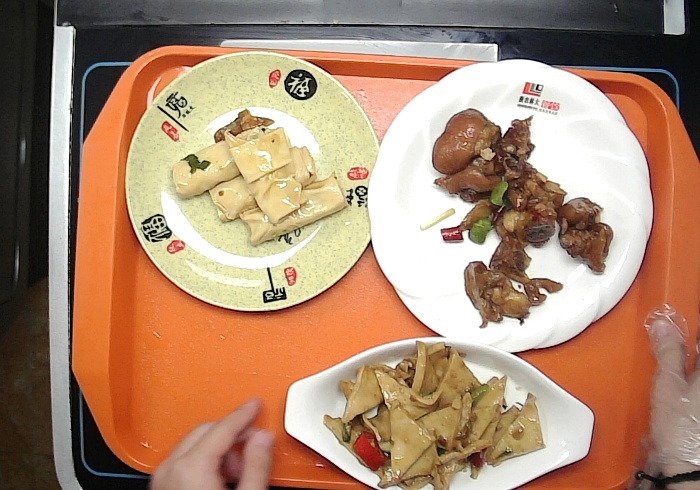NLDX-Bai_Zhe_Yuan_Pan: (366, 58, 657, 362)
NLDX-Fu_Zi_Yuan_Pan: (123, 55, 381, 314)
NLDX-Yu_Pan: (285, 337, 619, 490)
